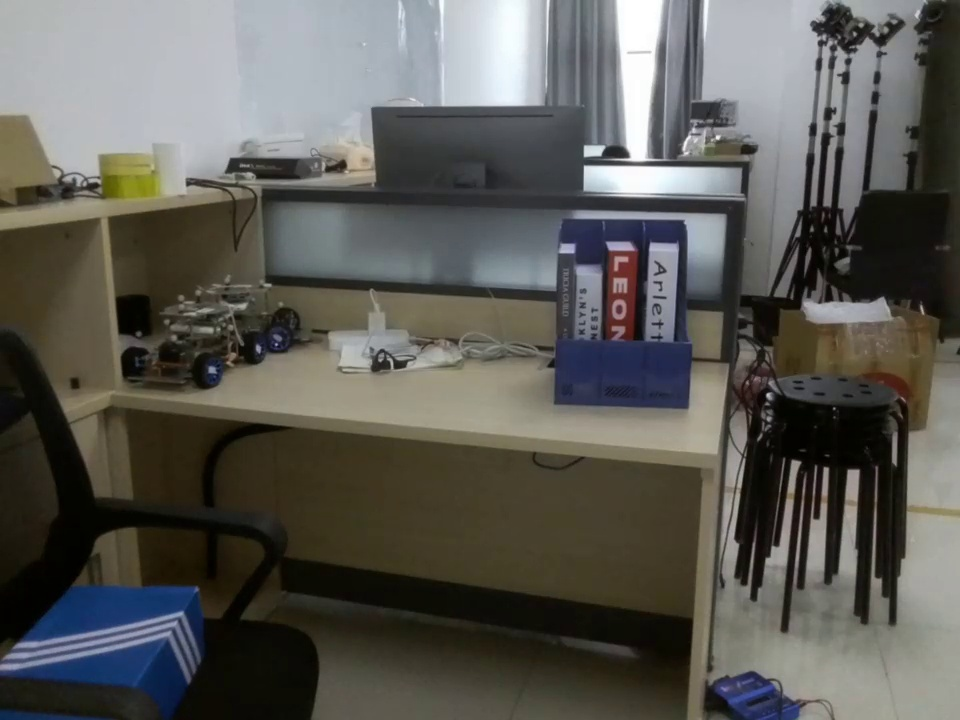files: (551, 217, 696, 413)
